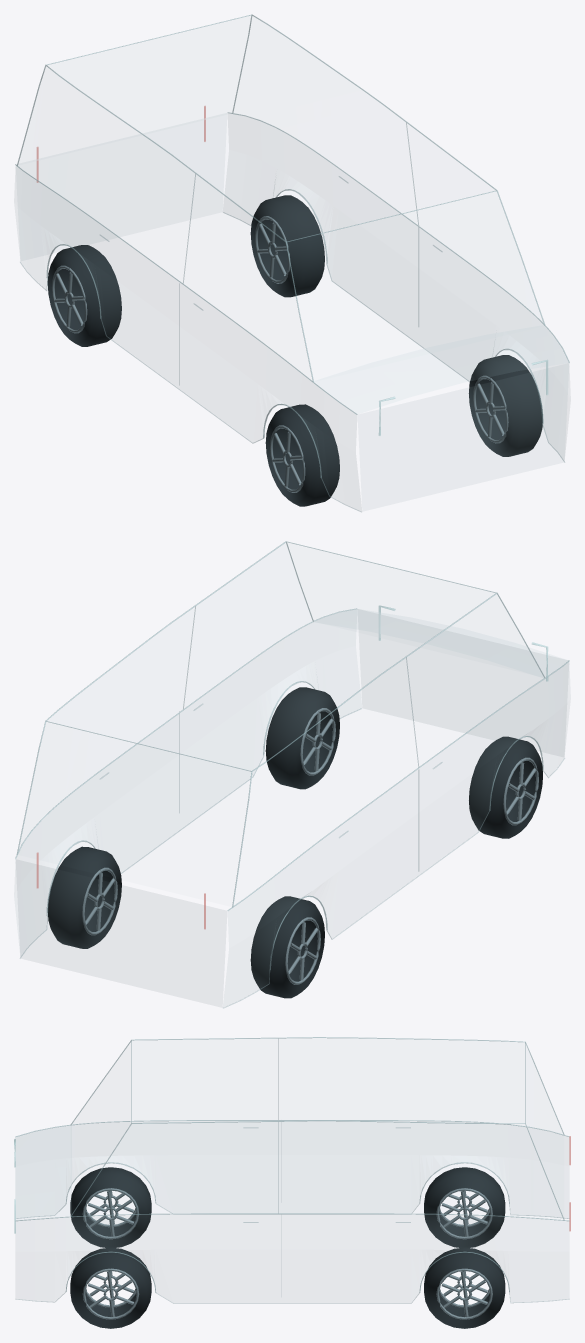
Rendered from kia_pv5.glb.
The picture shows the model from 3 angles, top to bottom: view 1: azimuth 30°, elevation 25°; view 2: azimuth 150°, elevation 25°; view 3: azimuth 270°, elevation 25°; orthographic projection. The views are drawn at different scales.
Visible parts, largest first — view 1: shell_body, shell_tyre_right_front, shell_tyre_left_rear, shell_tyre_right_rear, shell_tyre_left_front, shell_contours, shell_details, shell_rim_left_front, shell_rim_right_front, shell_rim_left_rear, shell_rim_right_rear; view 2: shell_body, shell_tyre_right_rear, shell_tyre_left_front, shell_tyre_left_rear, shell_tyre_right_front, shell_contours, shell_details, shell_rim_left_rear, shell_rim_right_rear, shell_rim_left_front, shell_rim_right_front; view 3: shell_body, shell_contours, shell_tyre_right_front, shell_tyre_left_front, shell_tyre_left_rear, shell_tyre_right_rear, shell_rim_right_front, shell_rim_left_rear, shell_rim_left_front, shell_rim_right_rear, shell_details.
Part boxes in pixels (left/top/right/bottom): shell_body: left=16, top=166, right=568, bottom=471; shell_tyre_right_front: left=265, top=404, right=339, bottom=506; shell_tyre_left_rear: left=250, top=195, right=324, bottom=297; shell_tyre_right_rear: left=47, top=245, right=121, bottom=346; shell_tyre_left_front: left=468, top=355, right=542, bottom=456; shell_contours: left=15, top=14, right=569, bottom=477; shell_details: left=20, top=123, right=564, bottom=512; shell_rim_left_front: left=473, top=375, right=508, bottom=443; shell_rim_right_front: left=270, top=425, right=305, bottom=492; shell_rim_left_rear: left=255, top=216, right=290, bottom=283; shell_rim_right_rear: left=51, top=265, right=87, bottom=333; shell_body: left=16, top=609, right=568, bottom=977; shell_tyre_right_rear: left=250, top=896, right=324, bottom=998; shell_tyre_left_front: left=265, top=687, right=339, bottom=789; shell_tyre_left_rear: left=47, top=846, right=121, bottom=948; shell_tyre_right_front: left=469, top=736, right=542, bottom=838; shell_contours: left=15, top=541, right=569, bottom=969; shell_details: left=20, top=606, right=564, bottom=1008; shell_rim_left_rear: left=82, top=867, right=117, bottom=935; shell_rim_right_rear: left=285, top=917, right=320, bottom=984; shell_rim_left_front: left=300, top=708, right=335, bottom=775; shell_rim_right_front: left=503, top=757, right=538, bottom=825; shell_body: left=15, top=1126, right=71, bottom=1218; shell_contours: left=15, top=1037, right=569, bottom=1292; shell_tyre_right_front: left=70, top=1167, right=151, bottom=1247; shell_tyre_left_front: left=70, top=1247, right=151, bottom=1328; shell_tyre_left_rear: left=424, top=1247, right=505, bottom=1328; shell_tyre_right_rear: left=424, top=1167, right=505, bottom=1247; shell_rim_right_front: left=82, top=1188, right=139, bottom=1239; shell_rim_left_rear: left=436, top=1268, right=492, bottom=1319; shell_rim_left_front: left=82, top=1268, right=139, bottom=1319; shell_rim_right_rear: left=436, top=1188, right=492, bottom=1239; shell_details: left=15, top=1039, right=569, bottom=1303.
Bounding box in the file's own units: 1.91 × 1.93 × 4.72.
